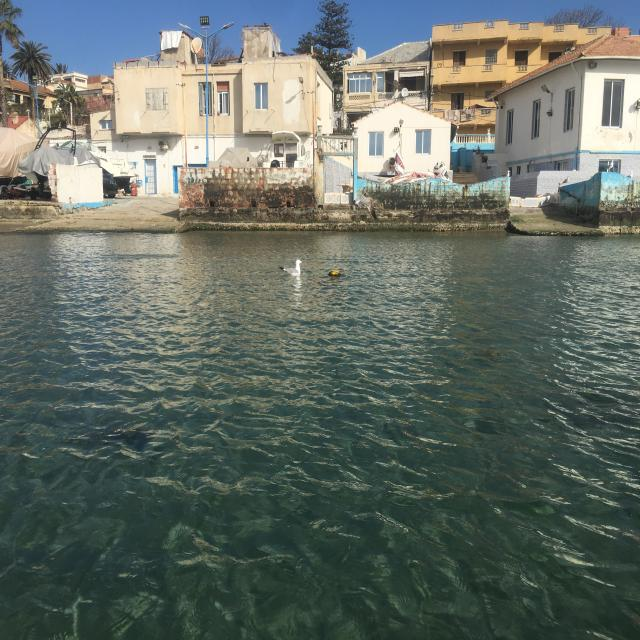Plastic: (328, 269, 341, 278)
